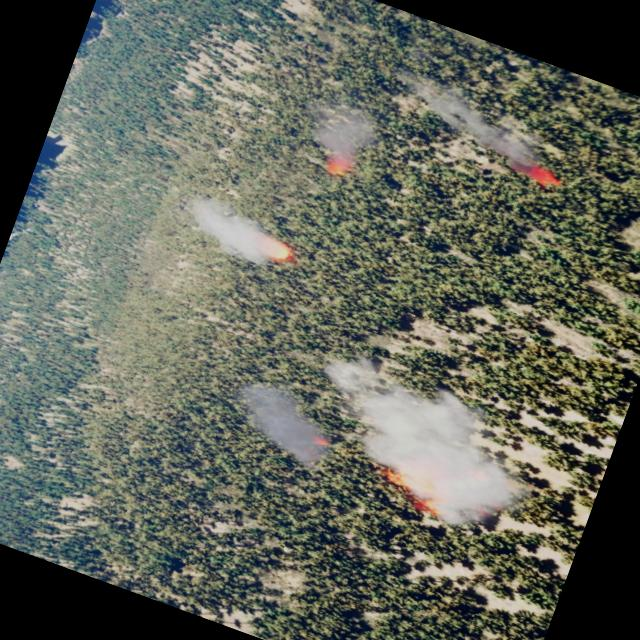fire: (365, 448, 458, 520), (520, 158, 574, 195), (255, 231, 306, 267), (319, 147, 356, 180)
smoke: (283, 344, 548, 546), (400, 77, 560, 180), (224, 380, 346, 470), (178, 190, 296, 276), (308, 98, 384, 168)
